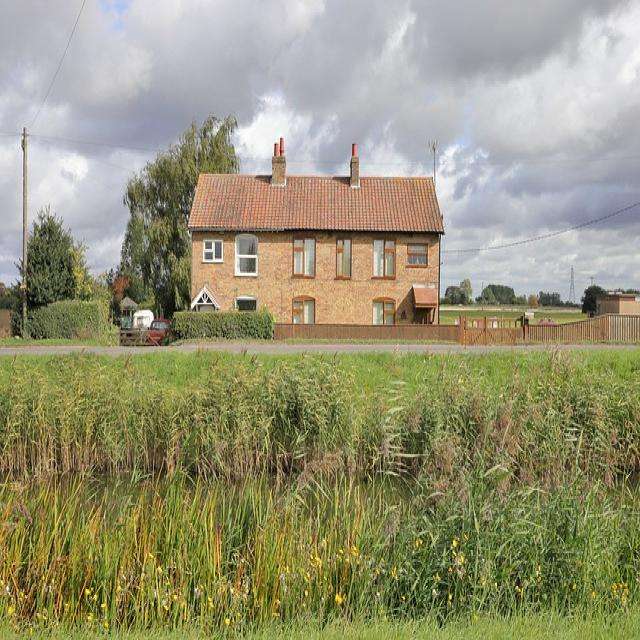building: (186, 140, 446, 346)
